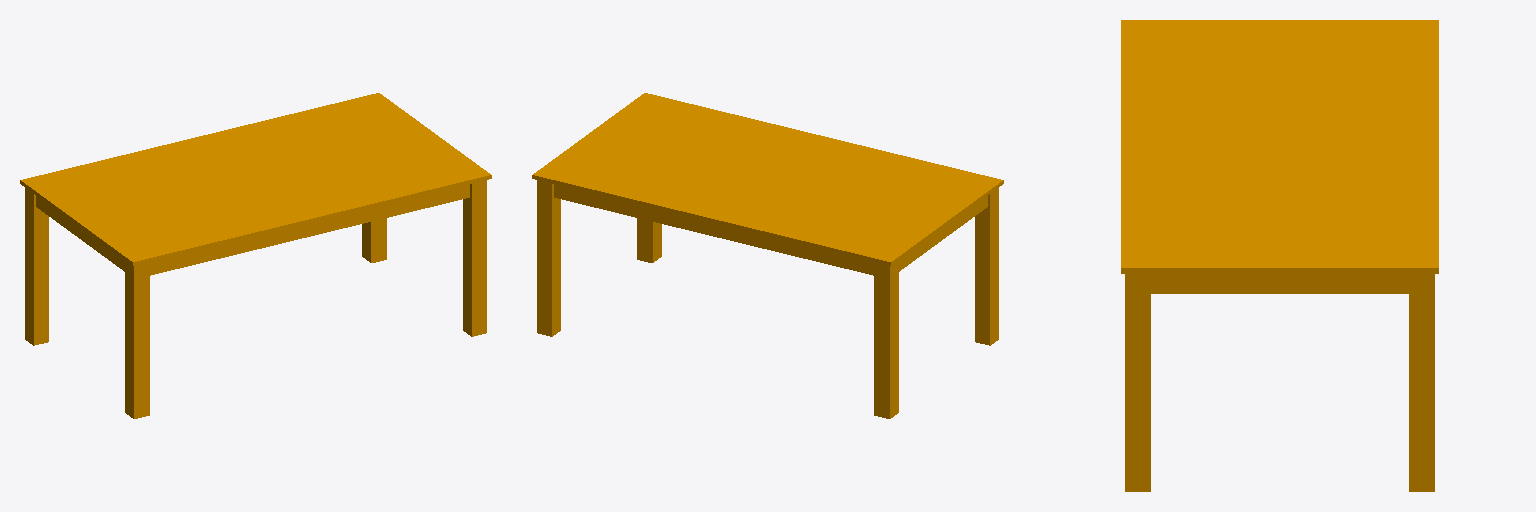
robot.urdf — bjursta:
<robot
  name="bjursta">
  <link name="bjursta">
    <inertial>
      <origin xyz="0.0 0.0 0.0" rpy="0 0 0"/>
      <mass value="5.0"/>
      <inertia ixx="1" ixy="0.0" ixz="0.0" iyy="1" iyz="0.0" izz="1" />
    </inertial>

    <visual>
      <geometry>
        <mesh filename="../meshes/bjursta_IKEA_table.dae" scale="1 1 1" />
      </geometry>
     </visual>

    <collision>
      <geometry>
        <mesh filename="../meshes/bjursta_IKEA_table.dae" scale="1 1 1" />
      </geometry>
    </collision>

  </link>
</robot>

--- Render facts (derived) ---
3 views of the same robot in one strip: view 1: azimuth 30°, elevation 25°; view 2: azimuth 150°, elevation 25°; view 3: azimuth 270°, elevation 25° (orthographic).
Robot: bjursta — 1 links, 0 joints (none); root link bjursta; default pose: every joint at zero.
Visible links, largest first — view 1: bjursta; view 2: bjursta; view 3: bjursta.
Boxes of the visible links, box(x1,y1,x2,y2) form: bjursta: box(20, 93, 491, 418); bjursta: box(532, 93, 1003, 418); bjursta: box(1121, 20, 1438, 491).
Size in the robot's own frame: 1.75 by 0.9493 by 0.7398 metres.
Meshes: 1 distinct files referenced, 1 mesh visuals loaded (1 Collada DAE).
